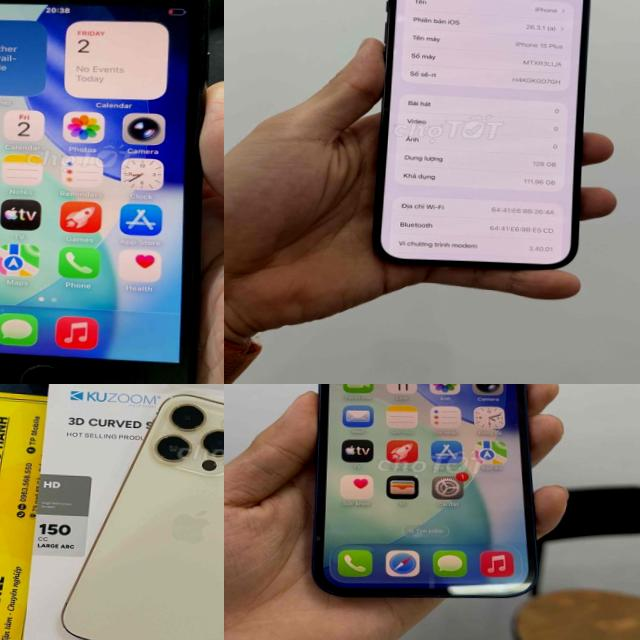gen_12_13: (311, 384, 553, 599)
gen_14: (51, 384, 224, 640)
gen_15: (353, 0, 601, 283)
gen_7_8: (0, 0, 224, 384)
